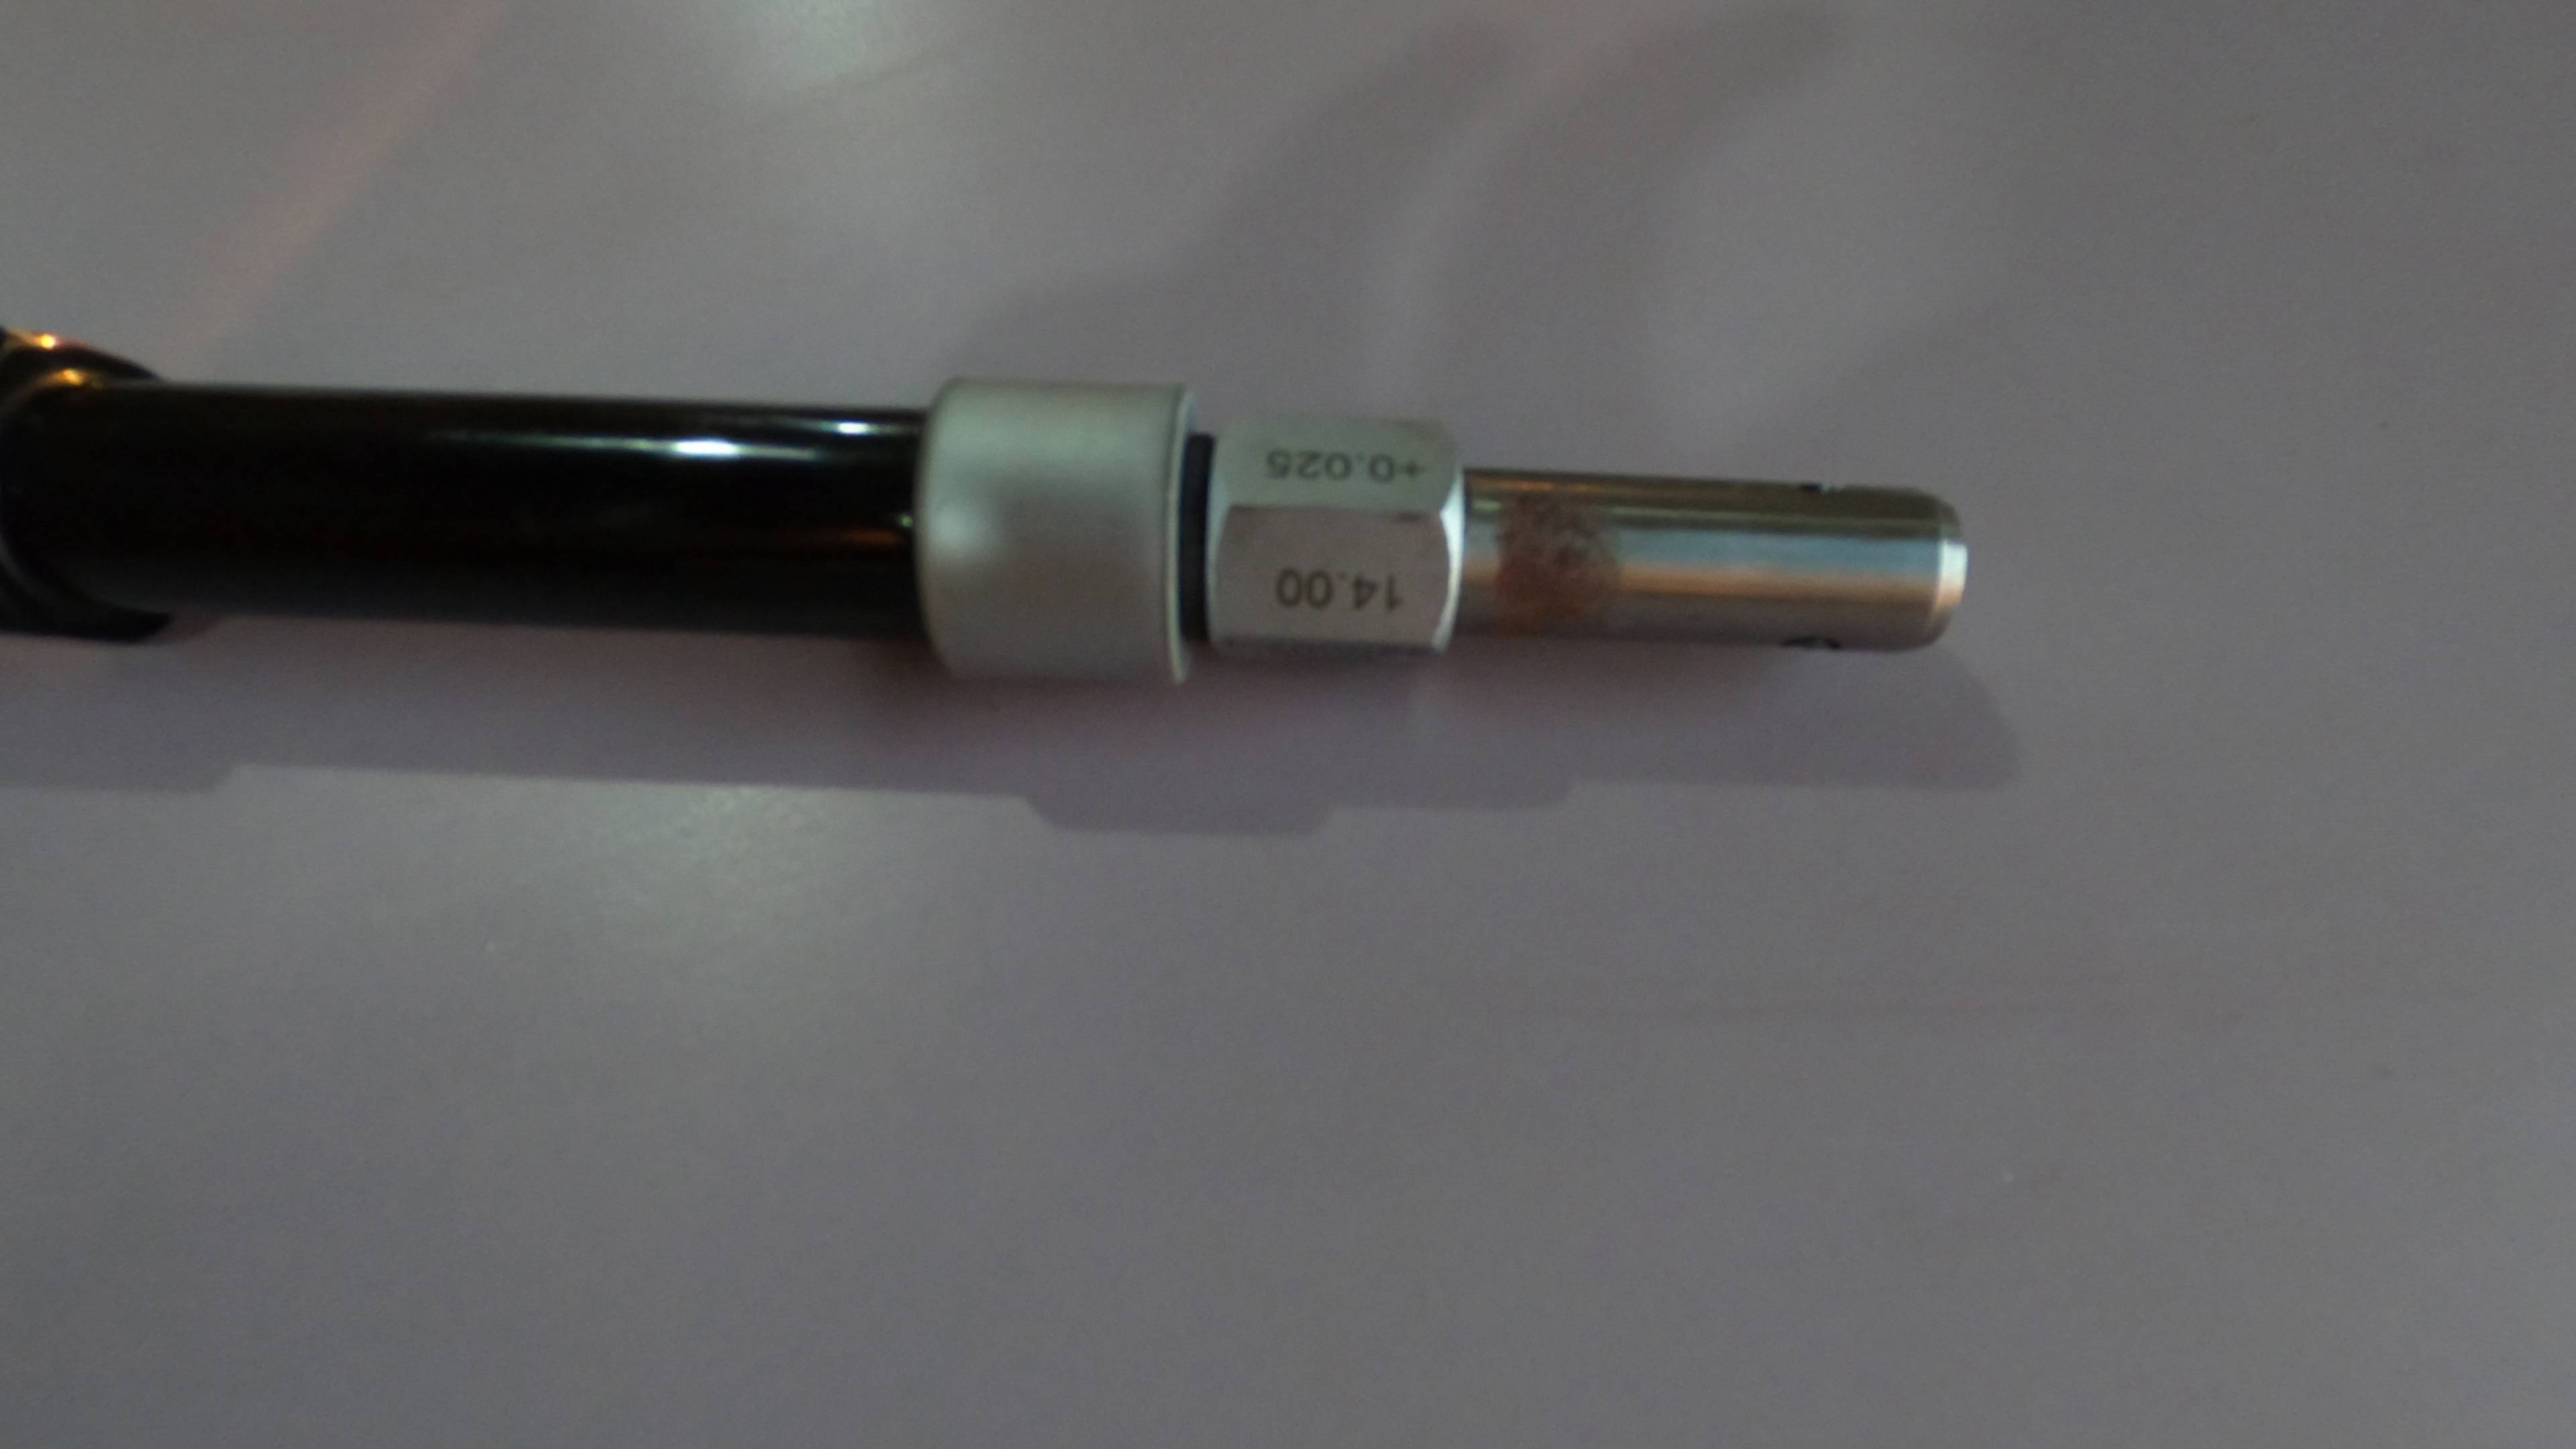air_gauge: (4, 324, 1974, 697)
